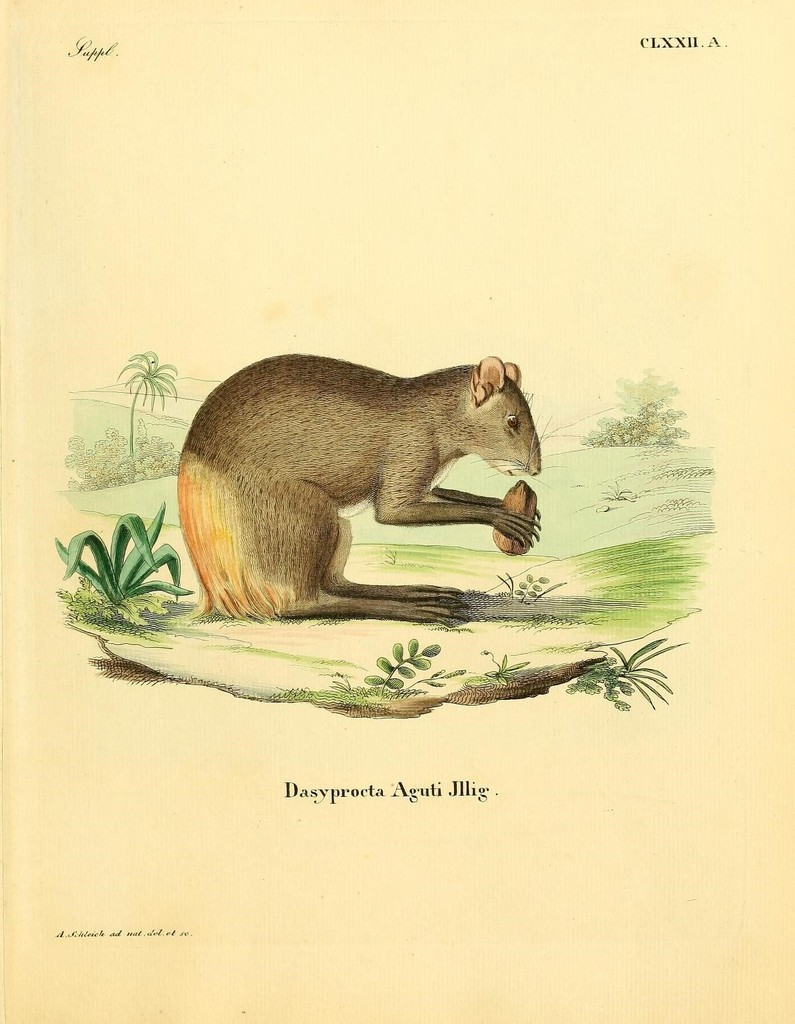Animal: (175, 353, 542, 614)
